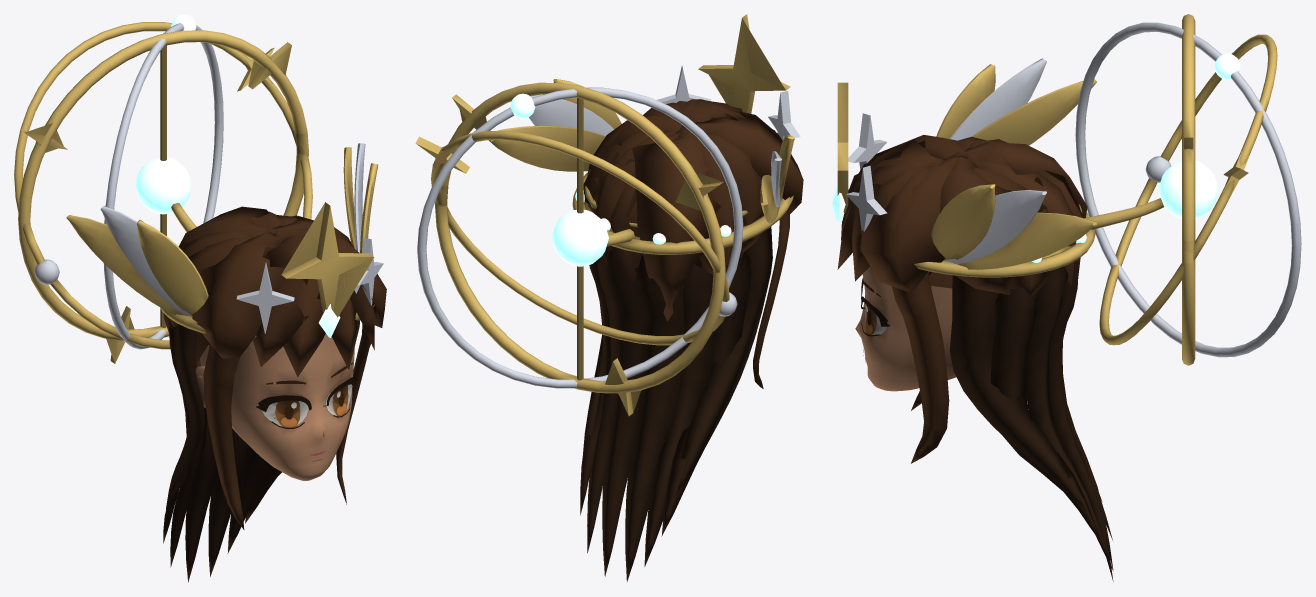
The model's file is h_astral_f.glb.
3 views of the same model, side by side, from view 1: azimuth 30°, elevation 25°; view 2: azimuth 150°, elevation 25°; view 3: azimuth 270°, elevation 25° (orthographic). The views are drawn at different scales.
Visible parts, largest first — view 1: Diadem, HairTop, HeadMesh, HairLong, HairFrame; view 2: Diadem, HairLong, HairTop, HairFrame; view 3: Diadem, HairLong, HairTop, HeadMesh, HairFrame.
Boxes of the visible parts, left/top/right/bottom form: Diadem: left=14, top=14, right=383, bottom=363; HairTop: left=163, top=206, right=386, bottom=377; HeadMesh: left=200, top=334, right=354, bottom=480; HairLong: left=163, top=324, right=281, bottom=582; HairFrame: left=203, top=324, right=370, bottom=529; Diadem: left=415, top=14, right=800, bottom=415; HairLong: left=580, top=227, right=772, bottom=581; HairTop: left=583, top=99, right=803, bottom=321; HairFrame: left=753, top=208, right=789, bottom=388; Diadem: left=832, top=14, right=1301, bottom=365; HairLong: left=950, top=261, right=1113, bottom=581; HairTop: left=837, top=135, right=1087, bottom=297; HeadMesh: left=855, top=266, right=956, bottom=391; HairFrame: left=891, top=271, right=949, bottom=463.
Bounding box in the file's own units: 0.395 × 0.6775 × 0.5268.
